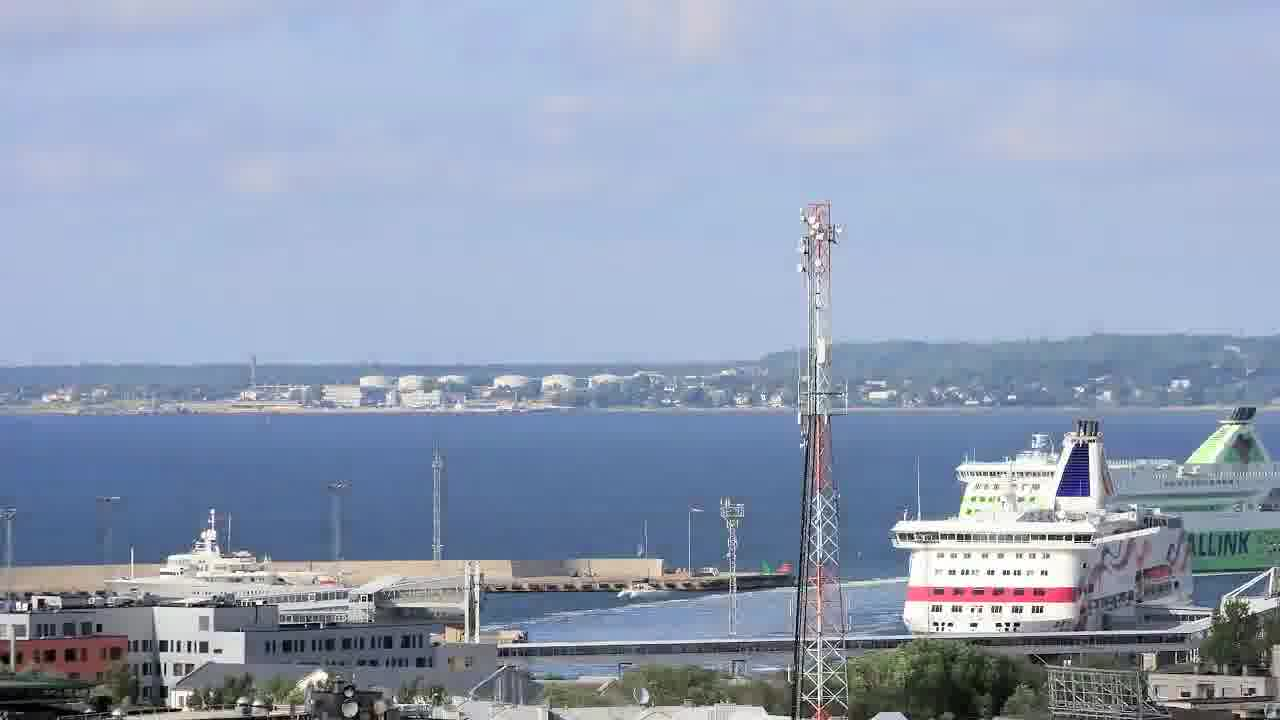type-3: (868, 415, 1225, 638), (951, 450, 1279, 590), (84, 511, 353, 609)
type-4: (610, 579, 667, 608)
